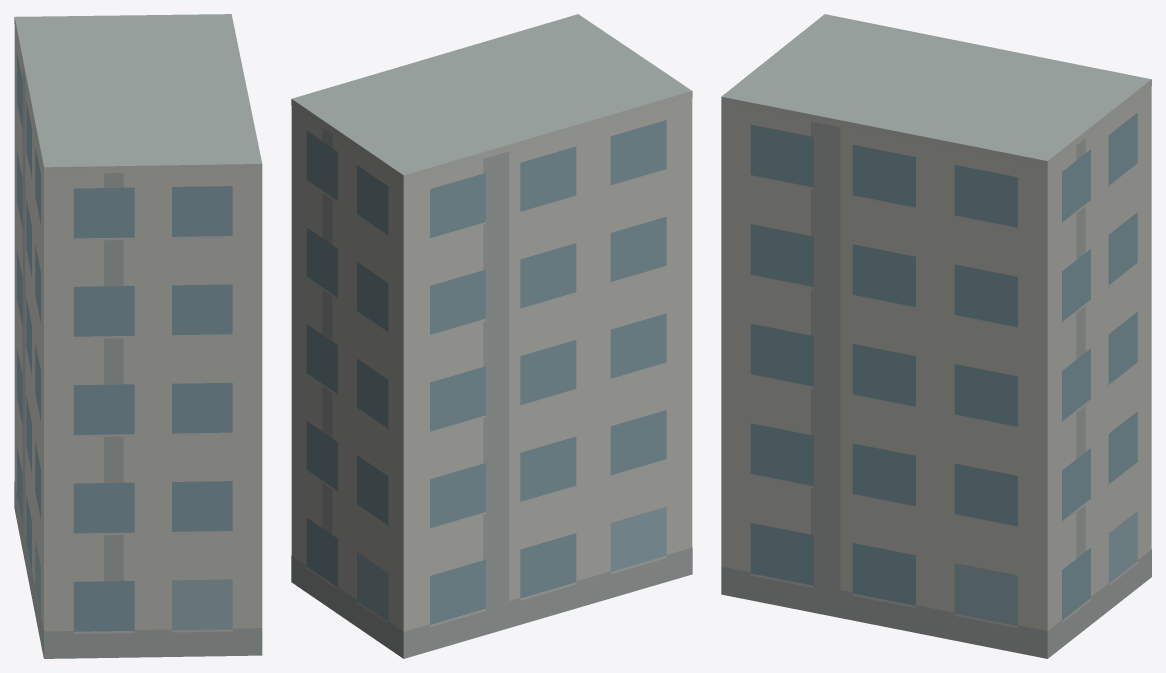
File: survey-upis-32896552.glb
3 renders of one model, left to right at view 1: azimuth 30°, elevation 25°; view 2: azimuth 150°, elevation 25°; view 3: azimuth 270°, elevation 25°, orthographic. The views are drawn at different scales.
Visible parts, largest first — view 1: survey-upis-32896552.tmp; view 2: survey-upis-32896552.tmp; view 3: survey-upis-32896552.tmp.
Boxes of the visible parts, left/top/right/bottom form: survey-upis-32896552.tmp: left=14, top=14, right=262, bottom=658; survey-upis-32896552.tmp: left=291, top=14, right=692, bottom=658; survey-upis-32896552.tmp: left=721, top=14, right=1151, bottom=658.
Bounding box in the file's own units: 10.91 × 17.2 × 13.49.
